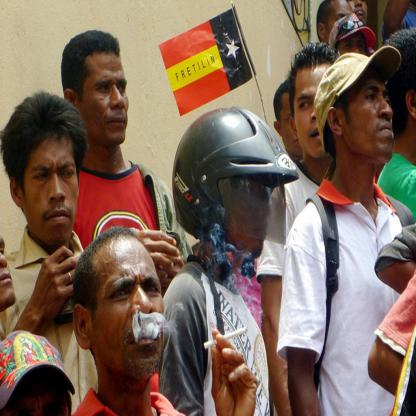face: (93, 251, 168, 379), (210, 157, 275, 259), (22, 128, 78, 239), (296, 62, 346, 158), (346, 69, 396, 159), (84, 52, 130, 145), (328, 5, 356, 55), (340, 31, 367, 73)
